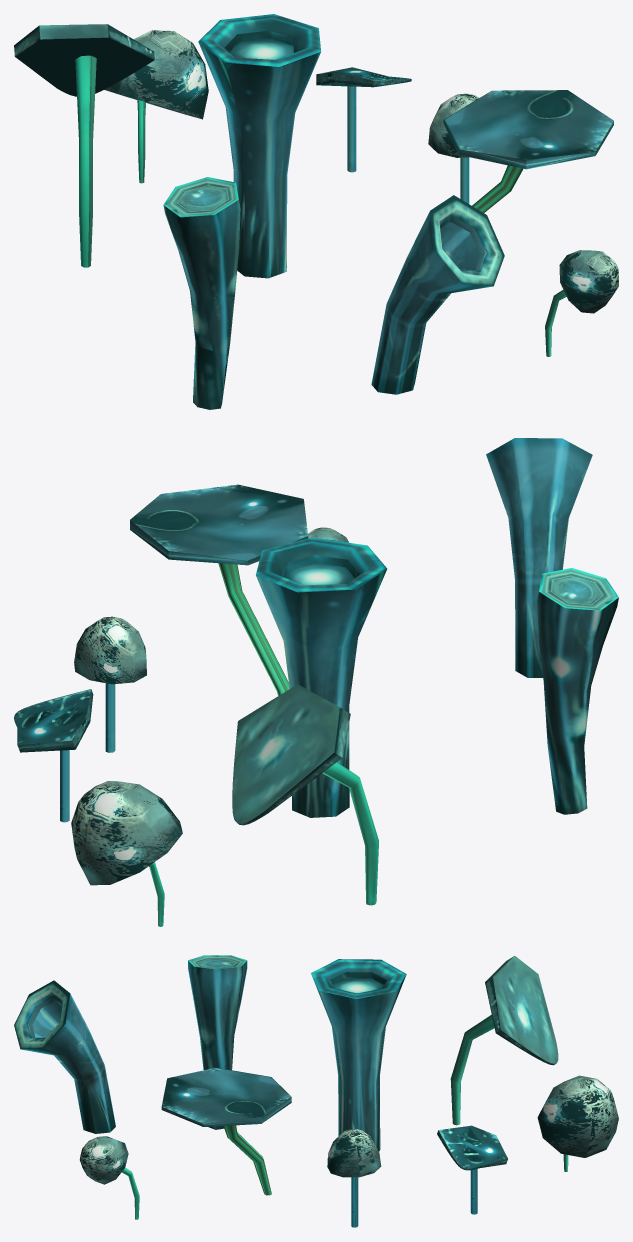
Rendered from SM_Vegetation.FBX.
The picture shows the model from 3 angles, top to bottom: view 1: azimuth 30°, elevation 25°; view 2: azimuth 150°, elevation 25°; view 3: azimuth 270°, elevation 25°; orthographic projection. The views are drawn at different scales.
Visible parts, largest first — view 1: Cylinder005; view 2: Cylinder005; view 3: Cylinder005.
Part boxes in pixels (bbox=[...]): Cylinder005: bbox=[14, 14, 618, 409]; Cylinder005: bbox=[14, 438, 618, 926]; Cylinder005: bbox=[14, 955, 618, 1227].
Size of the model in its own units: 15.15 by 8.82 by 23.88.
1 material, 1 textured.
